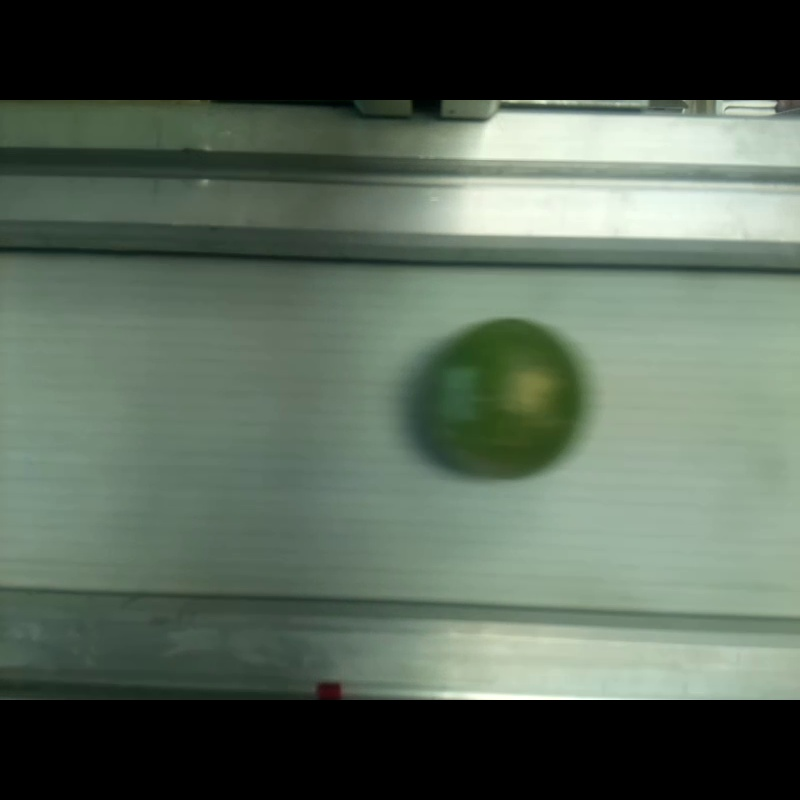lime: (423, 318, 577, 481)
